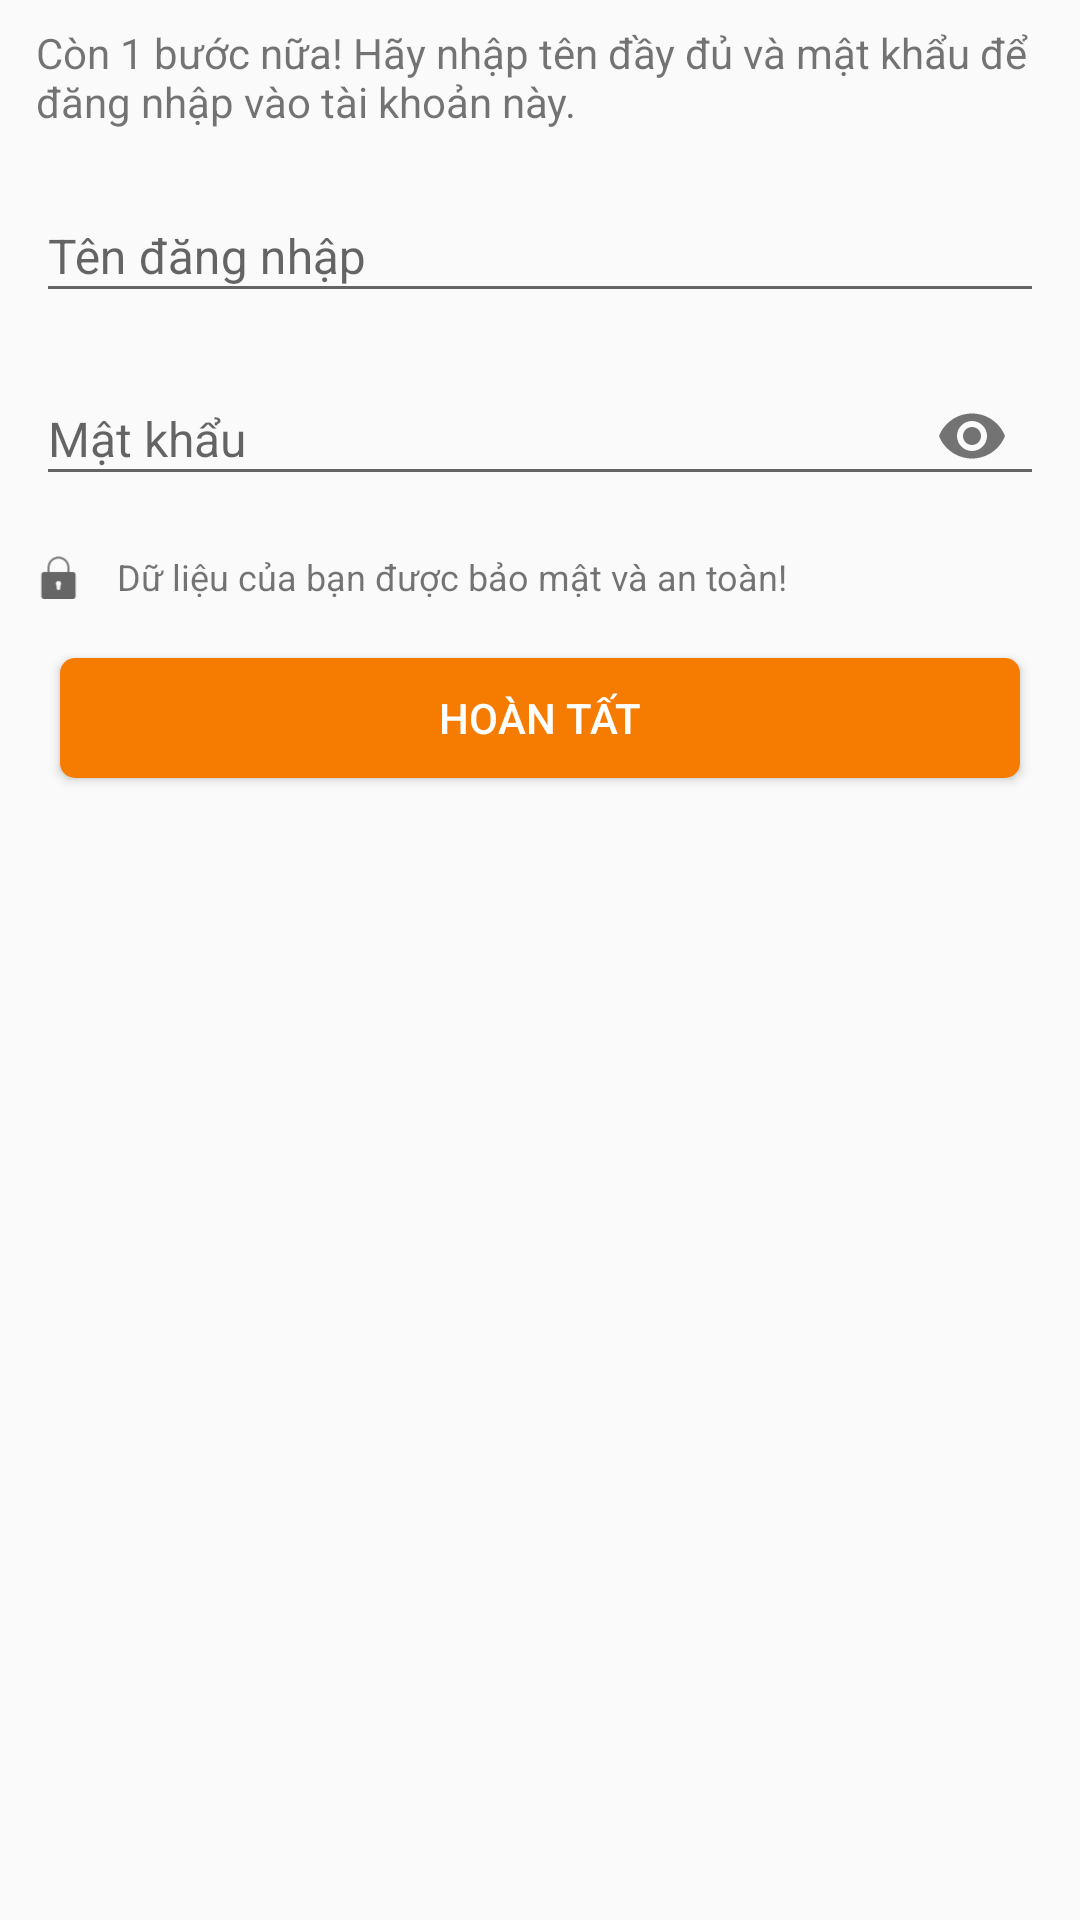

Icons on this 1080 x 1920 Android screen, each with its box as (x1, y1, x2, y2):
lock: (41, 556, 76, 599)
